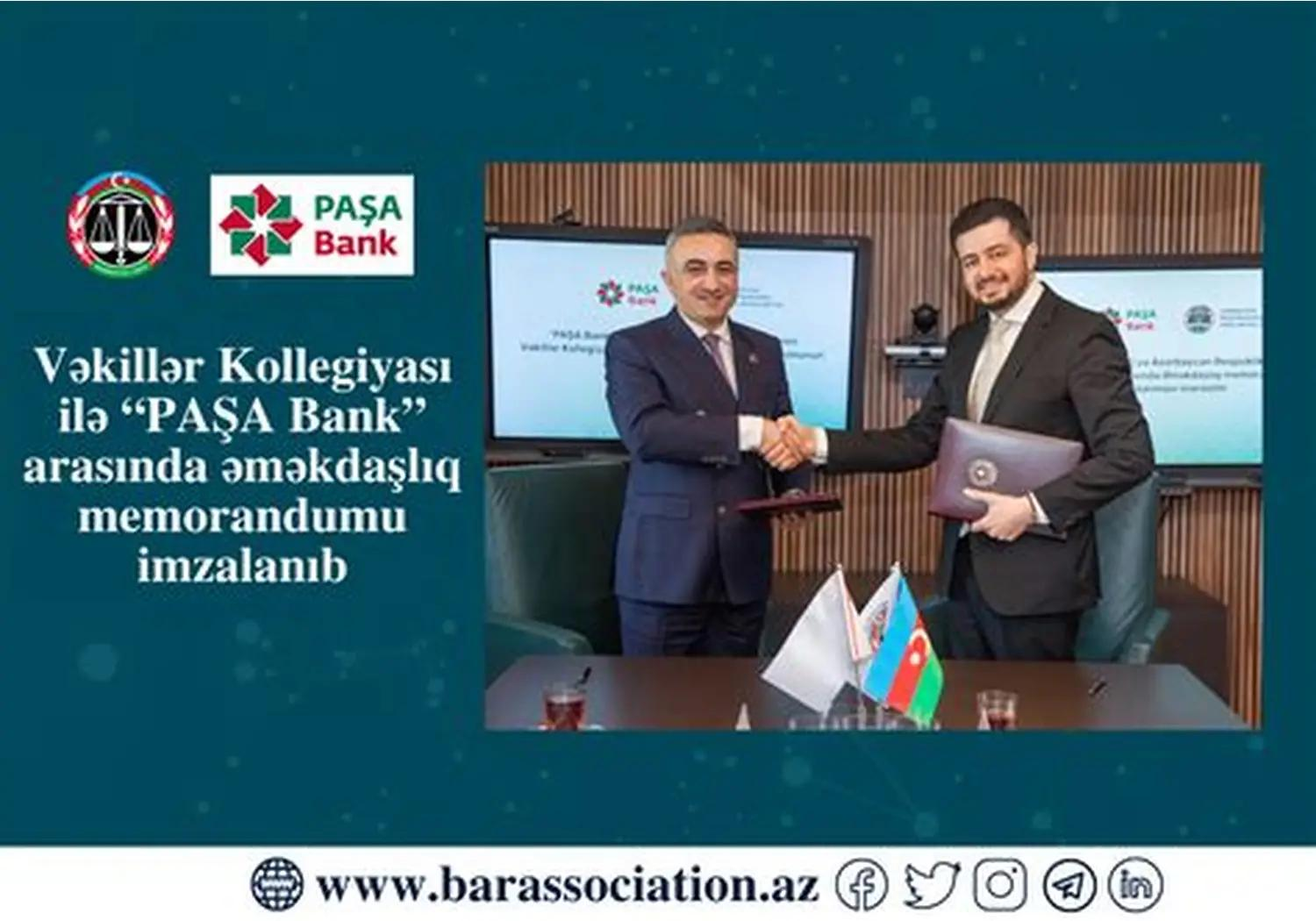Pasha Bank: (216, 182, 307, 268)
